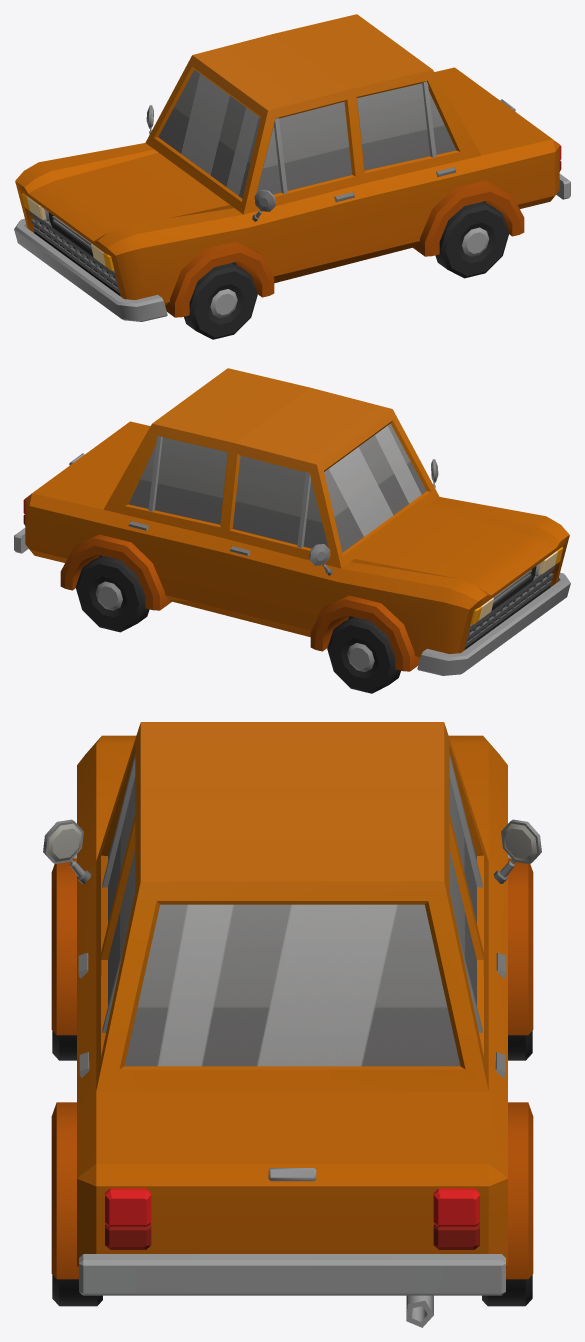
Rendered from Car_5_R.gltf.
The picture shows the model from 3 angles, top to bottom: view 1: azimuth 30°, elevation 25°; view 2: azimuth 150°, elevation 25°; view 3: azimuth 270°, elevation 25°; orthographic projection. The views are drawn at different scales.
Parts seen in each view (by area): view 1: Car_5_R, RR, FL; view 2: Car_5_R, RL, FR; view 3: Car_5_R, RR, RL.
Boxes of the visible parts, x1,y1,x2,y2 form: Car_5_R: (14,14,570,321); RR: (435,201,509,278); FL: (184,263,257,339); Car_5_R: (14,368,570,675); RL: (75,555,149,632); FR: (327,617,400,693); Car_5_R: (43,722,541,1327); RR: (52,1275,102,1306); RL: (482,1275,532,1306).
Size of the model in its own units: 3.55 by 1.45 by 1.67.
Materials: 4 (4 with a texture image).
